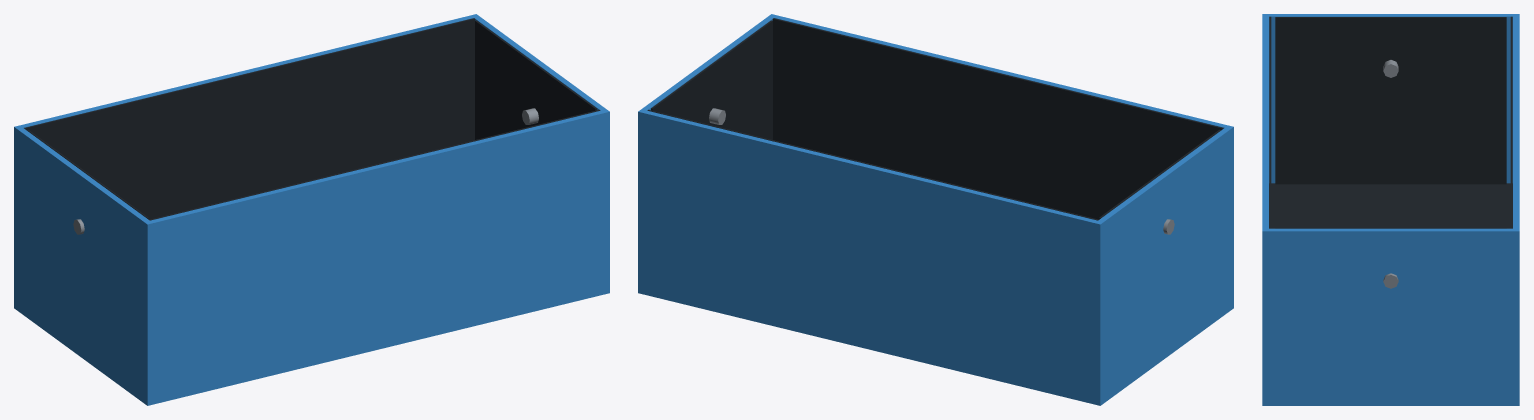
Rendered from absetz-10.glb.
3 renders of one model, left to right at view 1: azimuth 30°, elevation 25°; view 2: azimuth 150°, elevation 25°; view 3: azimuth 270°, elevation 25°, orthographic. The views are drawn at different scales.
Size of the model in its own units: 4.06 by 1.59 by 2.
